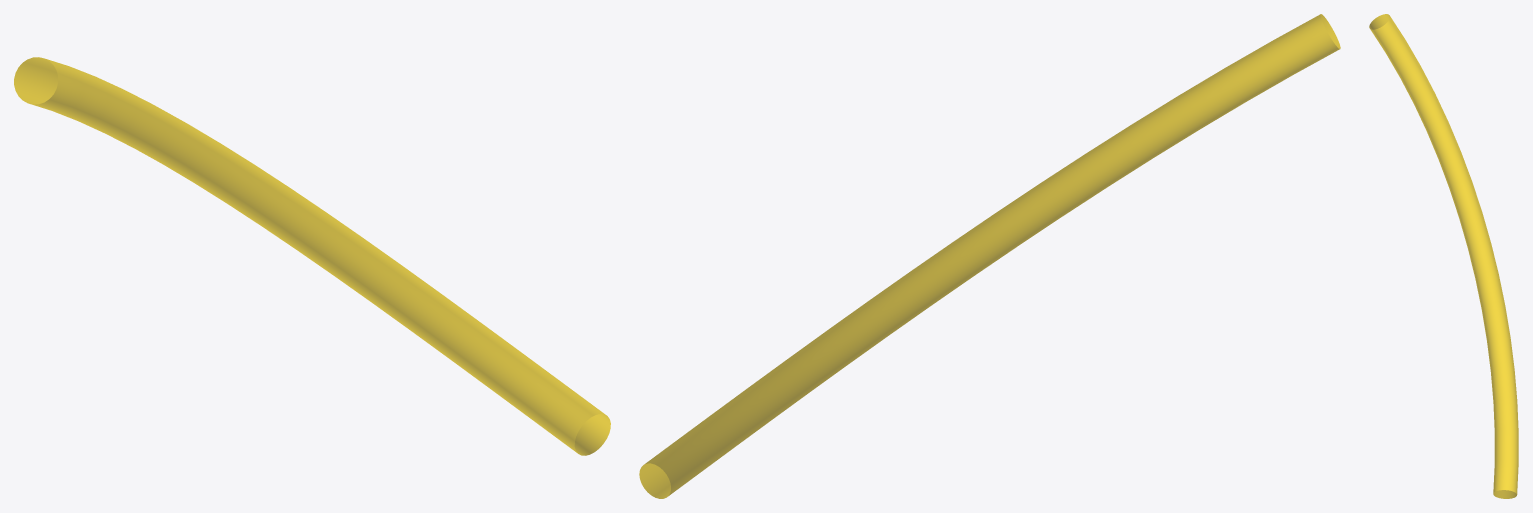
File: Event_419990632_track_83.fbx
3 views of the same model, side by side, from view 1: azimuth 30°, elevation 25°; view 2: azimuth 150°, elevation 25°; view 3: azimuth 270°, elevation 25° (orthographic). The views are drawn at different scales.
Visible parts, largest first — view 1: Model; view 2: Model; view 3: Model.
Part boxes in pixels (x1,y1,x2,y2): Model: [14, 57, 610, 455]; Model: [639, 14, 1340, 498]; Model: [1369, 14, 1518, 498].
Bounding box in the file's own units: 0.685 × 0.5957 × 0.2494.
